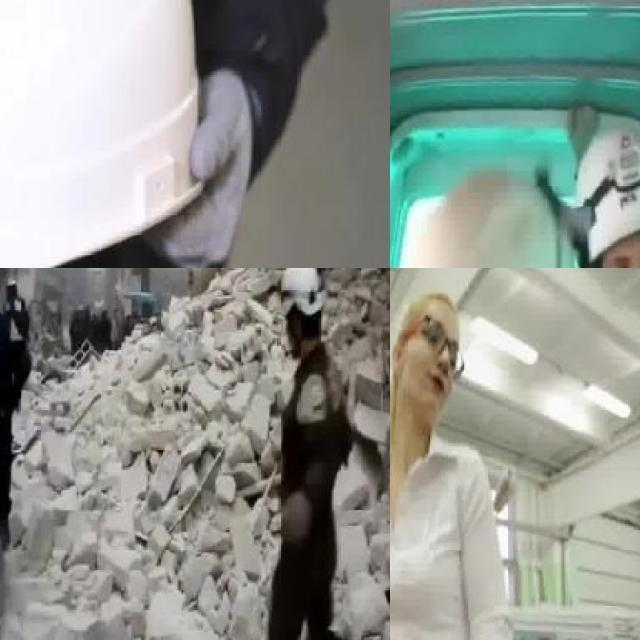apron: (146, 65, 253, 268)
